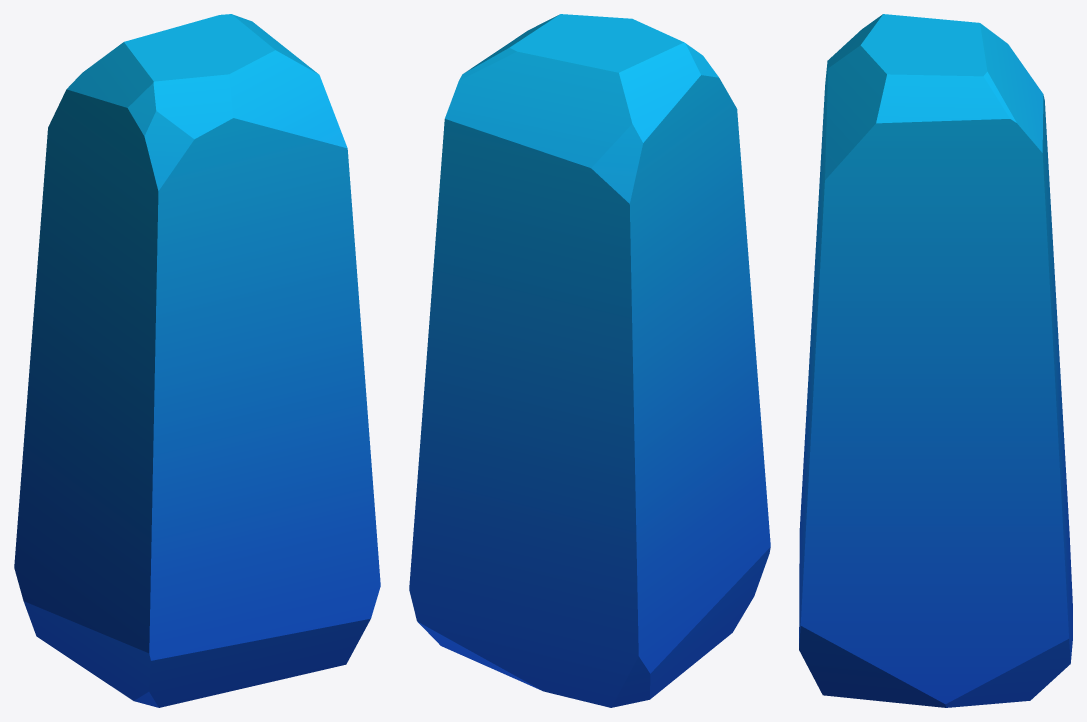
The model's file is crystal_17.fbx.
3 renders of one model, left to right at view 1: azimuth 30°, elevation 25°; view 2: azimuth 150°, elevation 25°; view 3: azimuth 270°, elevation 25°, orthographic.
Visible parts, largest first — view 1: crystal_17; view 2: crystal_17; view 3: crystal_17.
Part boxes in pixels (left/top/right/bottom): crystal_17: left=14, top=14, right=380, bottom=707; crystal_17: left=409, top=14, right=770, bottom=707; crystal_17: left=799, top=14, right=1072, bottom=707.
Size of the model in its own units: 2.62 by 6.34 by 2.61.
Materials: 1 (1 with a texture image).
